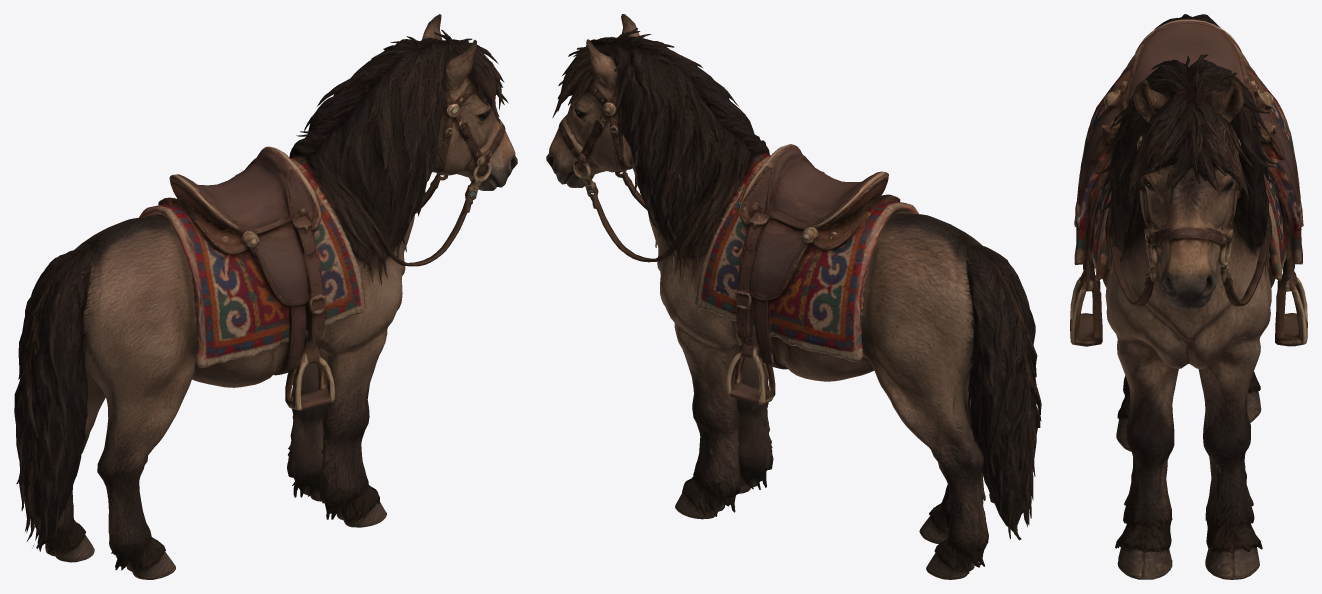
Rendered from pony-tripo.glb.
The picture shows the model from 3 angles, left to right: view 1: azimuth 30°, elevation 25°; view 2: azimuth 150°, elevation 25°; view 3: azimuth 270°, elevation 25°; orthographic projection. The views are drawn at different scales.
Parts seen in each view (by area): view 1: tripo_node_1b158161-35ae-4930-84e8-83fd6619af2e; view 2: tripo_node_1b158161-35ae-4930-84e8-83fd6619af2e; view 3: tripo_node_1b158161-35ae-4930-84e8-83fd6619af2e.
Boxes of the visible parts, x1,y1,x2,y2 form: tripo_node_1b158161-35ae-4930-84e8-83fd6619af2e: (14, 14, 517, 579); tripo_node_1b158161-35ae-4930-84e8-83fd6619af2e: (546, 14, 1041, 579); tripo_node_1b158161-35ae-4930-84e8-83fd6619af2e: (1070, 14, 1307, 579).
Bounding box in the file's own units: 1 × 0.8785 × 0.3396.
1 material, 1 textured.
